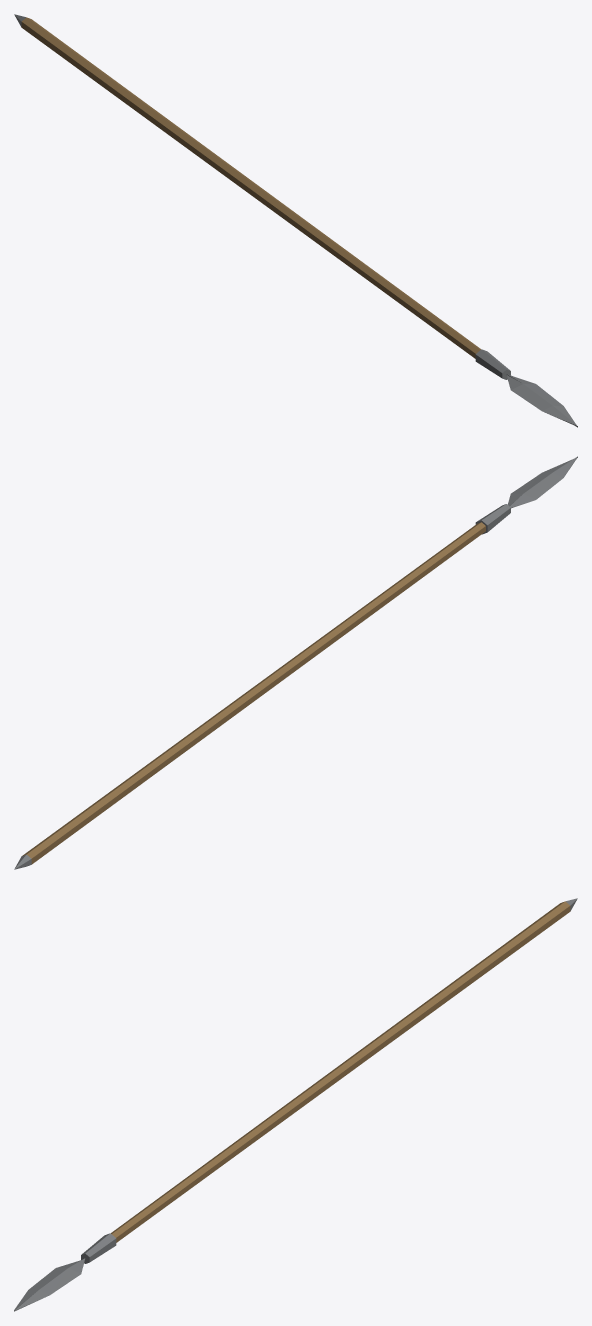
The model's file is f4_spyd.glb.
3 renders of one model, top to bottom at view 1: azimuth 30°, elevation 25°; view 2: azimuth 150°, elevation 25°; view 3: azimuth 330°, elevation 25°, orthographic.
Parts seen in each view (by area): view 1: F_spyd; view 2: F_spyd; view 3: F_spyd.
Boxes of the visible parts, left/top/right/bottom form: F_spyd: left=14, top=14, right=577, bottom=427; F_spyd: left=14, top=456, right=577, bottom=869; F_spyd: left=14, top=898, right=577, bottom=1311.
Bounding box in the file's own units: 0.07 × 0.038 × 2.69.
